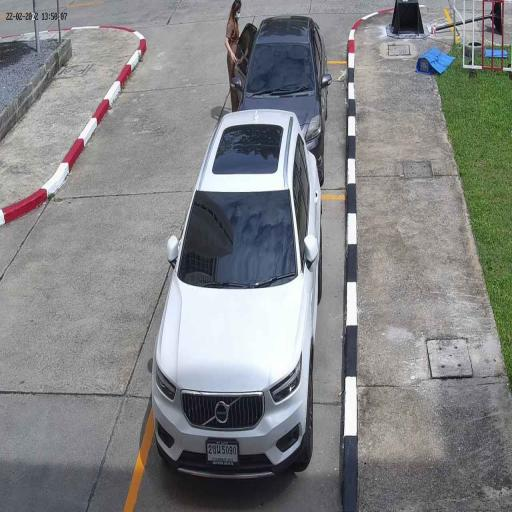car: (148, 108, 320, 479), (236, 17, 326, 149)
